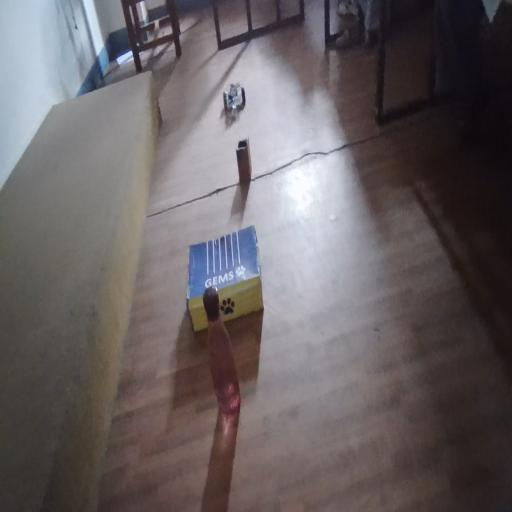Bottle: (186, 282, 243, 394)
car: (220, 86, 255, 129)
